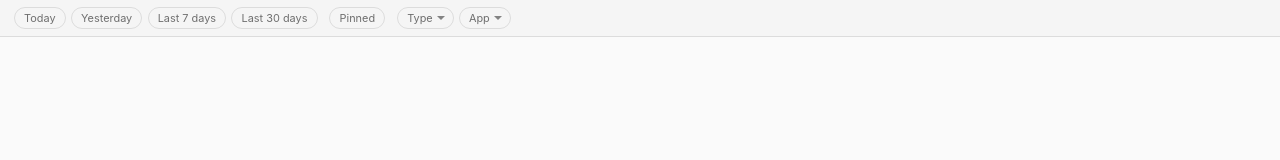
Test case: FilterChips › single-selects a source app from the app dropdown
Click the button with aria-label "Source app". click: {"x": 485, "y": 18}
box: left=459, top=7, right=511, bottom=29
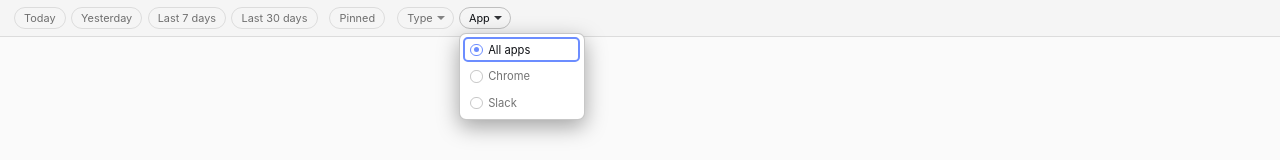
Now the menu item "Slack" is shown, box left=463, top=90, right=580, bottom=116
Click the menu item "Chrome". click: {"x": 522, "y": 76}
box: left=463, top=64, right=580, bottom=89
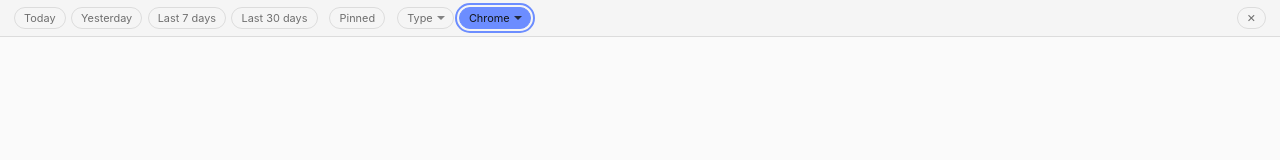
Now the text "Chrome" is shown, box left=469, top=11, right=510, bottom=25
